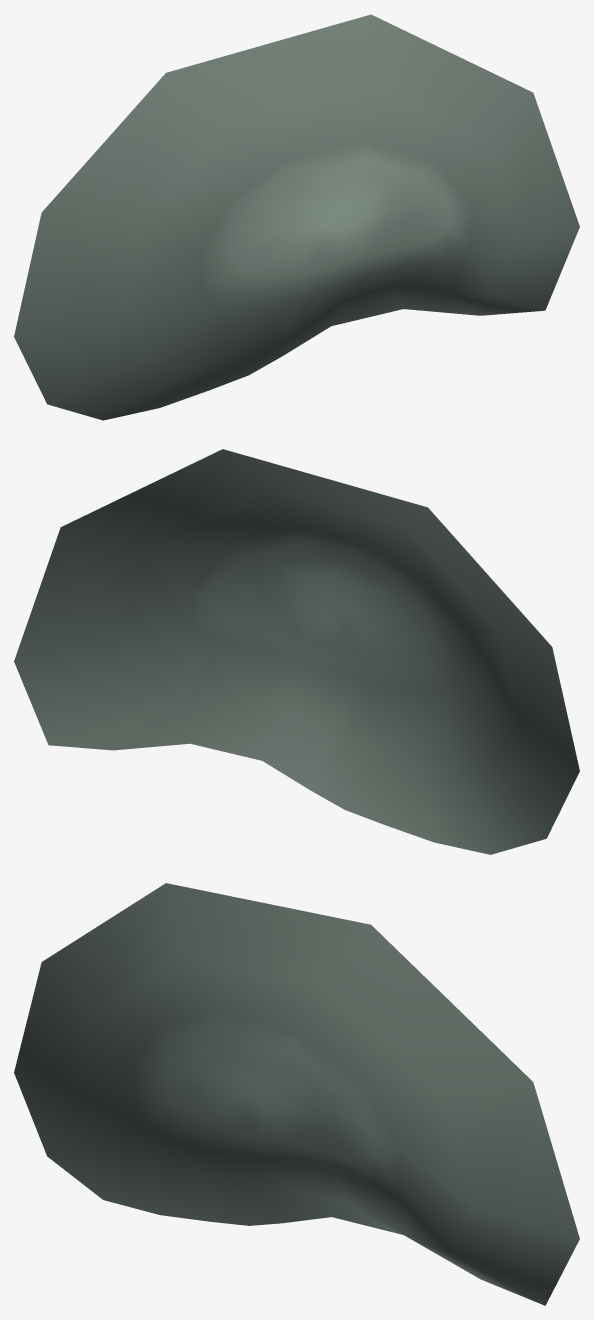
Rendered from Swamp_SandbarA.glb.
3 renders of one model, top to bottom at view 1: azimuth 30°, elevation 25°; view 2: azimuth 150°, elevation 25°; view 3: azimuth 330°, elevation 25°, orthographic.
Parts seen in each view (by area): view 1: MeshNode_0; view 2: MeshNode_0; view 3: MeshNode_0.
Boxes of the visible parts, x1,y1,x2,y2 form: MeshNode_0: (14,14,579,420); MeshNode_0: (14,449,579,854); MeshNode_0: (14,883,579,1305).
Bounding box in the file's own units: 116 × 67.12 × 13.82.
